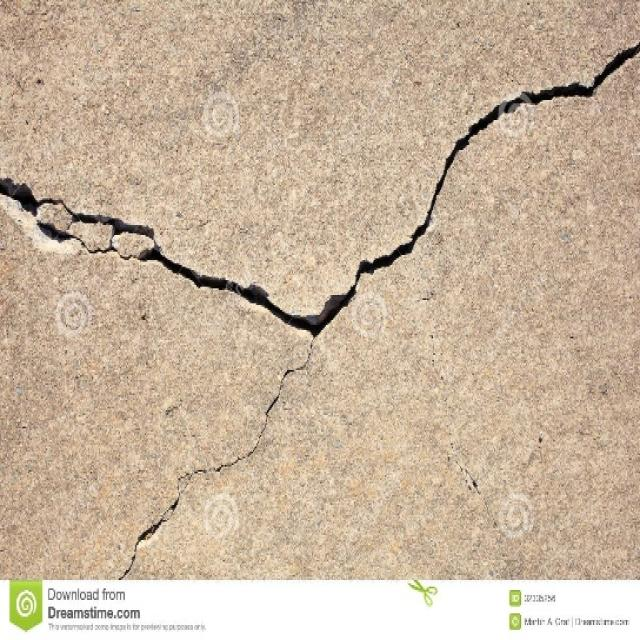crack: (308, 37, 639, 346), (3, 170, 306, 343), (119, 347, 315, 583)
